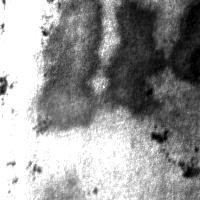patches: (4, 85, 128, 200), (108, 0, 200, 140), (39, 1, 102, 132), (108, 1, 165, 115), (58, 140, 164, 200), (168, 1, 200, 85), (176, 154, 200, 180), (149, 126, 170, 145)
